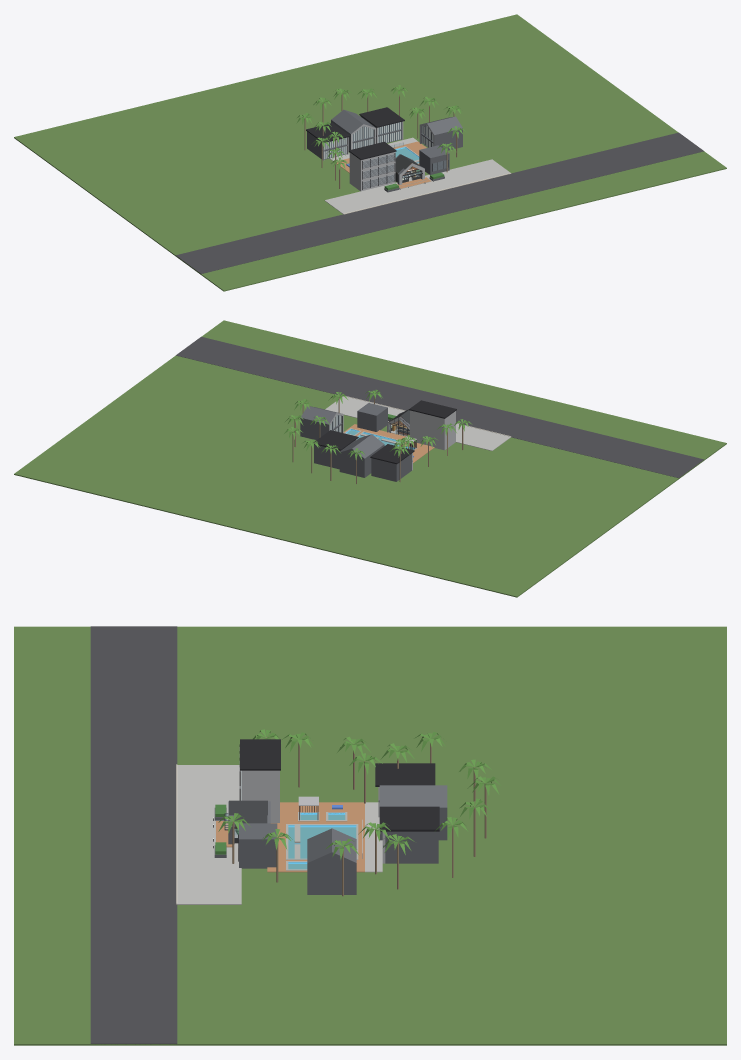
The model's file is brew-cup-cafe.glb.
3 views of the same model, one above another, from view 1: azimuth 30°, elevation 25°; view 2: azimuth 150°, elevation 25°; view 3: azimuth 270°, elevation 25° (orthographic). The views are drawn at different scales.
Parts seen in each view (by area): view 1: Ground_Grass, Road, Pavement, LeftBlock_Body, Forecourt_Back, WingR_Body, WingA_Body, RightBlock_Body, WingB_Roof, LeftBlock_Roof; view 2: Ground_Grass, Road, LeftBlock_Body, WingA_Body, Pavement, WingR_Body, WingL_Body, RightBlock_Body, Forecourt_Back, WingB_Roof, WingB_Body, LeftBlock_Roof (+1 smaller); view 3: Ground_Grass, Road, Pavement, WingR_Body, Forecourt_Back, WingA_Body, RightBlock_Body, WingB_Body, WingB_Roof, LeftBlock_Body, WingL_Roof, LeftBlock_Roof (+3 smaller).
Part boxes in pixels (x1,y1,x2,y2): Ground_Grass: (14, 14, 726, 291); Road: (176, 132, 703, 273); Pavement: (332, 165, 510, 213); LeftBlock_Body: (349, 152, 395, 191); Forecourt_Back: (324, 159, 499, 205); WingR_Body: (423, 116, 462, 150); WingA_Body: (331, 109, 373, 152); RightBlock_Body: (419, 145, 449, 174); WingB_Roof: (359, 107, 404, 127); LeftBlock_Roof: (348, 141, 396, 159); Ground_Grass: (14, 320, 726, 597); Road: (176, 336, 703, 478); LeftBlock_Body: (410, 410, 455, 450); WingA_Body: (339, 435, 383, 477); Pavement: (332, 396, 510, 445); WingR_Body: (300, 406, 339, 440); WingL_Body: (371, 453, 411, 481); RightBlock_Body: (357, 403, 387, 431); Forecourt_Back: (325, 404, 499, 450); WingB_Roof: (313, 430, 358, 450); WingB_Body: (314, 440, 355, 469); LeftBlock_Roof: (409, 400, 456, 418); Ground_Grass: (14, 626, 726, 1045); Road: (90, 626, 177, 1044); Pavement: (177, 765, 215, 904); WingR_Body: (307, 830, 356, 894); Forecourt_Back: (216, 765, 241, 904); WingA_Body: (384, 785, 447, 840); RightBlock_Body: (239, 823, 277, 868); WingB_Body: (385, 831, 438, 863); WingB_Roof: (379, 806, 439, 831); LeftBlock_Body: (241, 770, 279, 822); WingL_Roof: (375, 763, 435, 786); LeftBlock_Roof: (240, 739, 280, 770).
Bounding box in the file's own units: 180 × 13.2 × 130.
44 materials, 7 textured.
